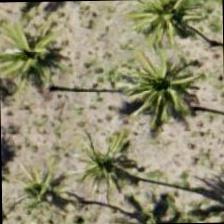Kelapa_Sawit: (110, 28, 202, 120), (75, 118, 167, 210), (2, 136, 95, 223), (0, 1, 68, 85), (126, 0, 218, 53)
